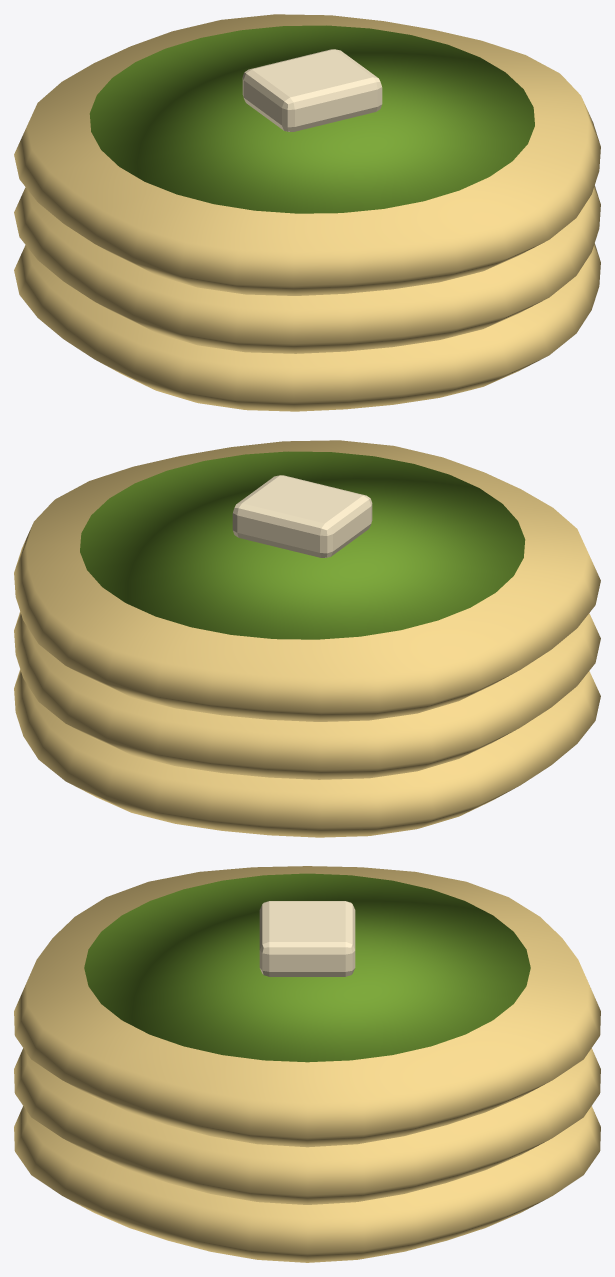
Rendered from grass-pancakes.glb.
3 views of the same model, one above another, from view 1: azimuth 30°, elevation 25°; view 2: azimuth 150°, elevation 25°; view 3: azimuth 270°, elevation 25° (orthographic).
Visible parts, largest first — view 1: edible_pancake.002, edible_sauce, edible_pancake, edible_pancake.001, edible_butter; view 2: edible_pancake.002, edible_sauce, edible_pancake, edible_pancake.001, edible_butter; view 3: edible_pancake.002, edible_sauce, edible_pancake.001, edible_pancake, edible_butter.
Part boxes in pixels (left/top/right/bottom): edible_pancake.002: left=14, top=14, right=600, bottom=295; edible_sauce: left=89, top=25, right=534, bottom=213; edible_pancake: left=14, top=243, right=600, bottom=411; edible_pancake.001: left=14, top=185, right=600, bottom=353; edible_butter: left=242, top=49, right=382, bottom=131; edible_pancake.002: left=14, top=440, right=600, bottom=721; edible_sauce: left=80, top=451, right=525, bottom=639; edible_pancake: left=14, top=669, right=600, bottom=837; edible_pancake.001: left=14, top=611, right=600, bottom=779; edible_butter: left=232, top=475, right=372, bottom=557; edible_pancake.002: left=14, top=866, right=600, bottom=1147; edible_sauce: left=84, top=873, right=530, bottom=1062; edible_pancake.001: left=14, top=1048, right=600, bottom=1204; edible_pancake: left=14, top=1106, right=600, bottom=1262; edible_butter: left=259, top=901, right=355, bottom=976.
Bounding box in the file's own units: 0.184 × 0.08 × 0.184.
